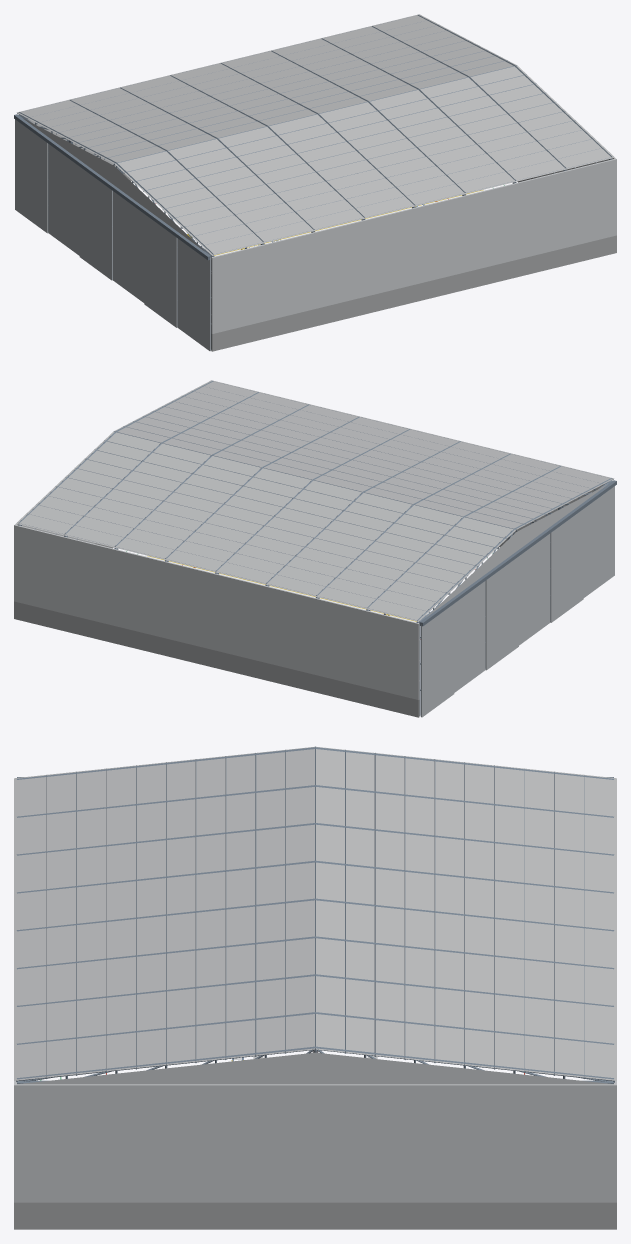
File: hangar.glb
3 views of the same model, one above another, from view 1: azimuth 30°, elevation 25°; view 2: azimuth 150°, elevation 25°; view 3: azimuth 270°, elevation 25° (orthographic). The views are drawn at different scales.
Parts seen in each view (by area): view 1: hangar_shell, hangar_doors, hangar_roof_structure; view 2: hangar_shell, hangar_doors, hangar_roof_structure; view 3: hangar_shell, hangar_roof_structure.
Boxes of the visible parts, x1=… form: hangar_shell: x1=16, y1=14, x2=616, y2=351; hangar_doors: x1=14, y1=114, x2=211, y2=351; hangar_roof_structure: x1=17, y1=15, x2=613, y2=256; hangar_shell: x1=14, y1=380, x2=614, y2=717; hangar_doors: x1=419, y1=480, x2=616, y2=717; hangar_roof_structure: x1=17, y1=381, x2=613, y2=622; hangar_shell: x1=14, y1=746, x2=616, y2=1229; hangar_roof_structure: x1=16, y1=746, x2=614, y2=1083.
Size of the model in its own units: 72.9 by 19.98 by 60.6.
